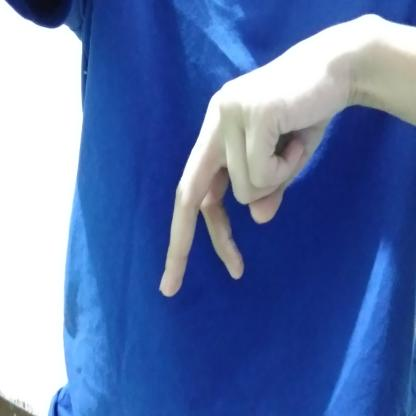run: (152, 8, 382, 302)
